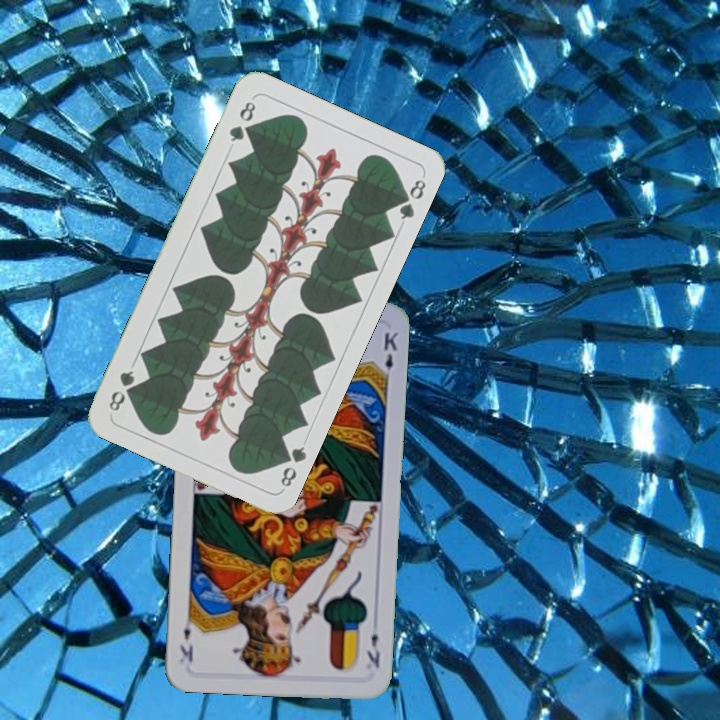EK: (363, 629, 383, 670)
G8: (274, 442, 309, 490), (225, 97, 258, 145)
